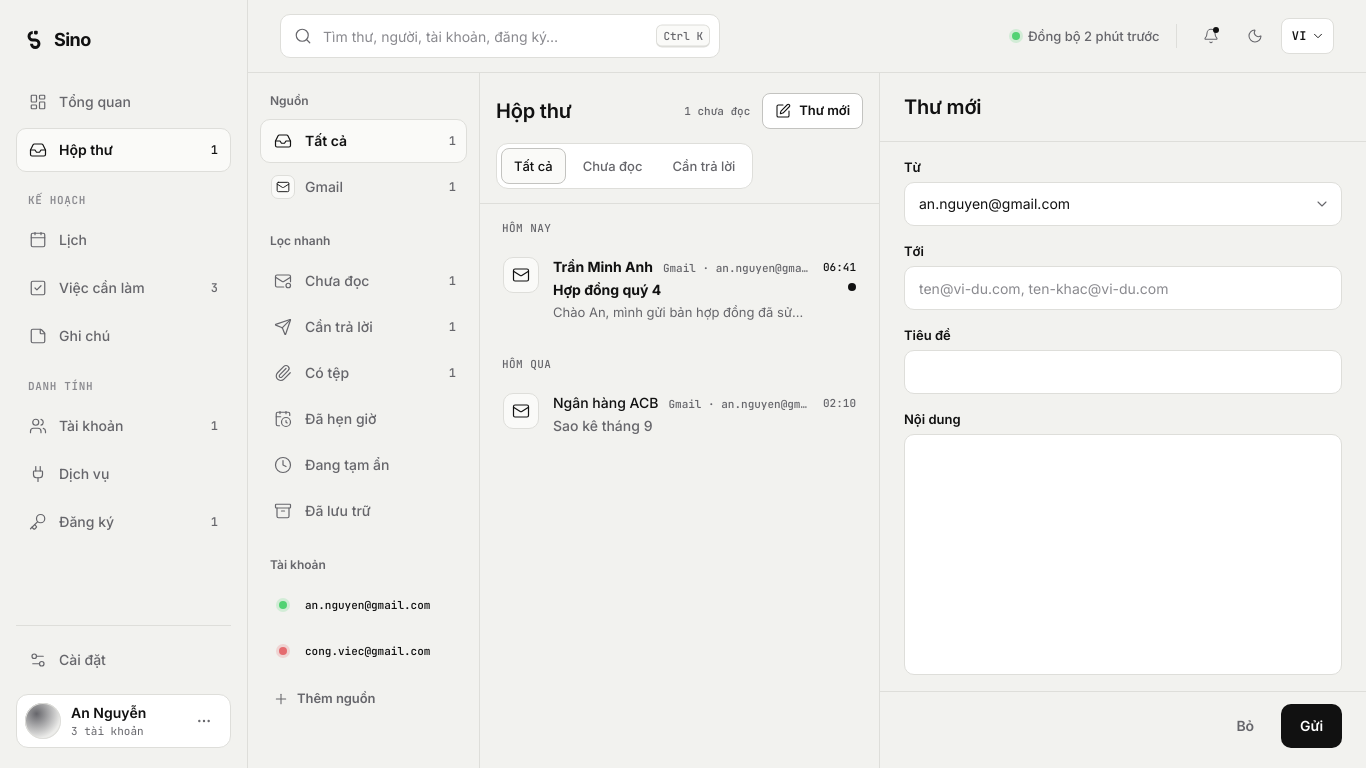
Test: sending a new mail on the API (FE-84, f10-new-mail) › says when the account can no longer send, and reads the accounts again (409 SEND_NOT_ALLOWED)
In the field labelled "Tới": (1123, 288) [904,266,1342,310], type "minhanh@acme.vn"
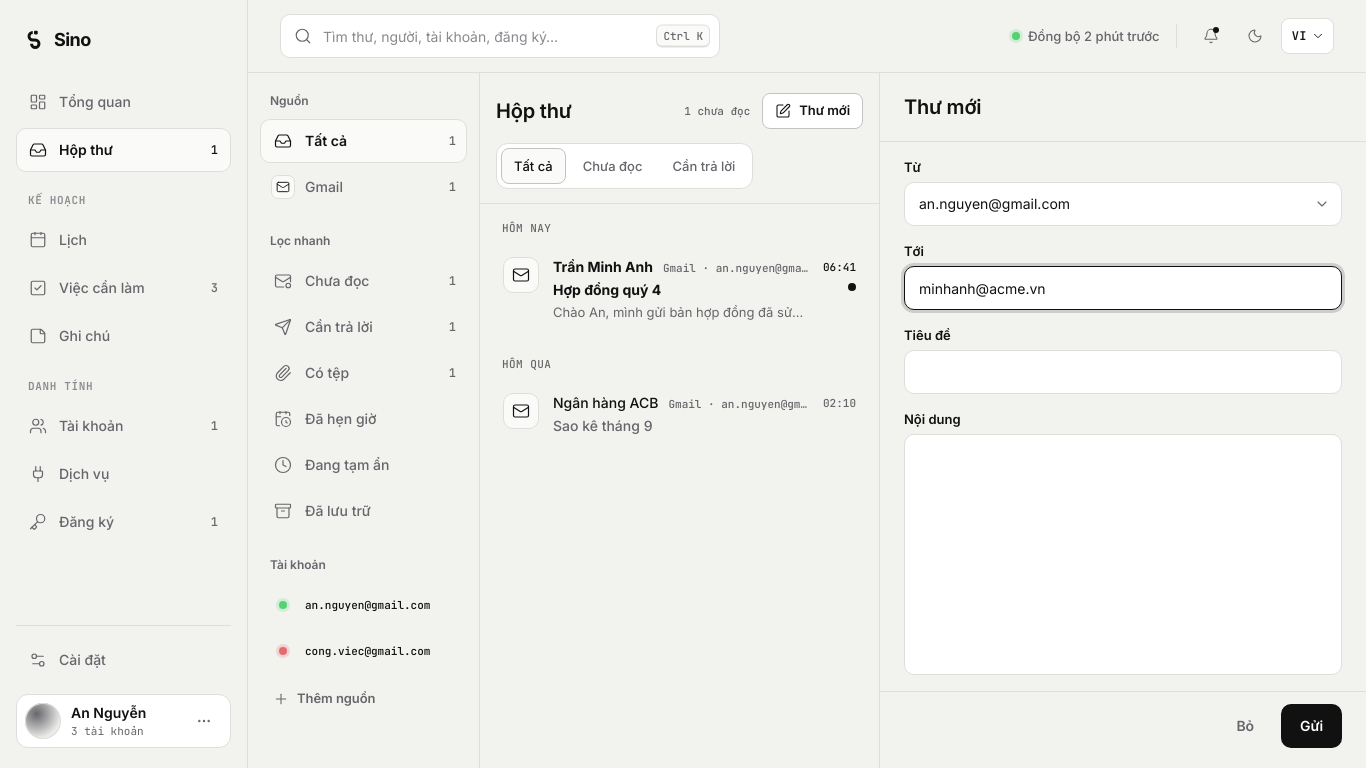
In the field labelled "Tiêu đề": (1123, 372) [904,350,1342,394], type "Báo giá"
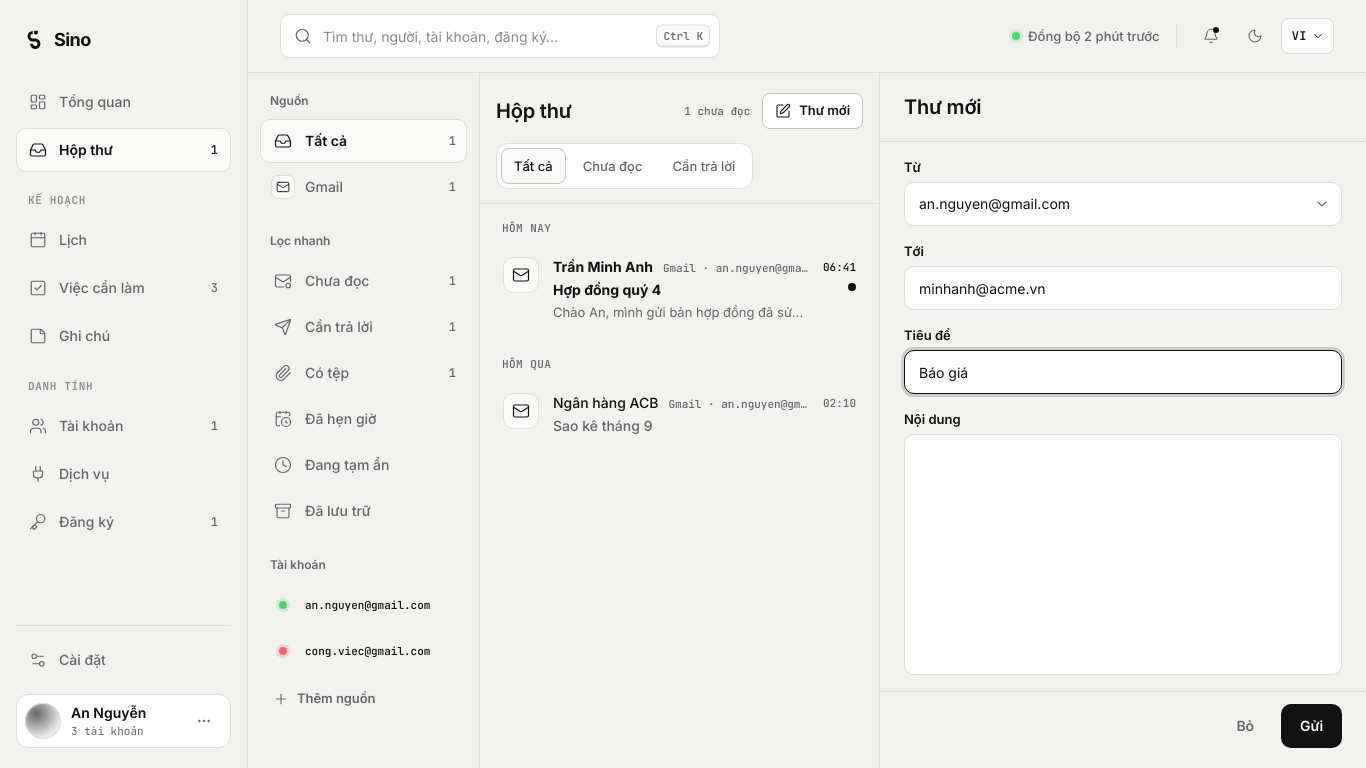
In the text box labelled "Nội dung": (1123, 554) [904,434,1342,675], type "Chào chị"
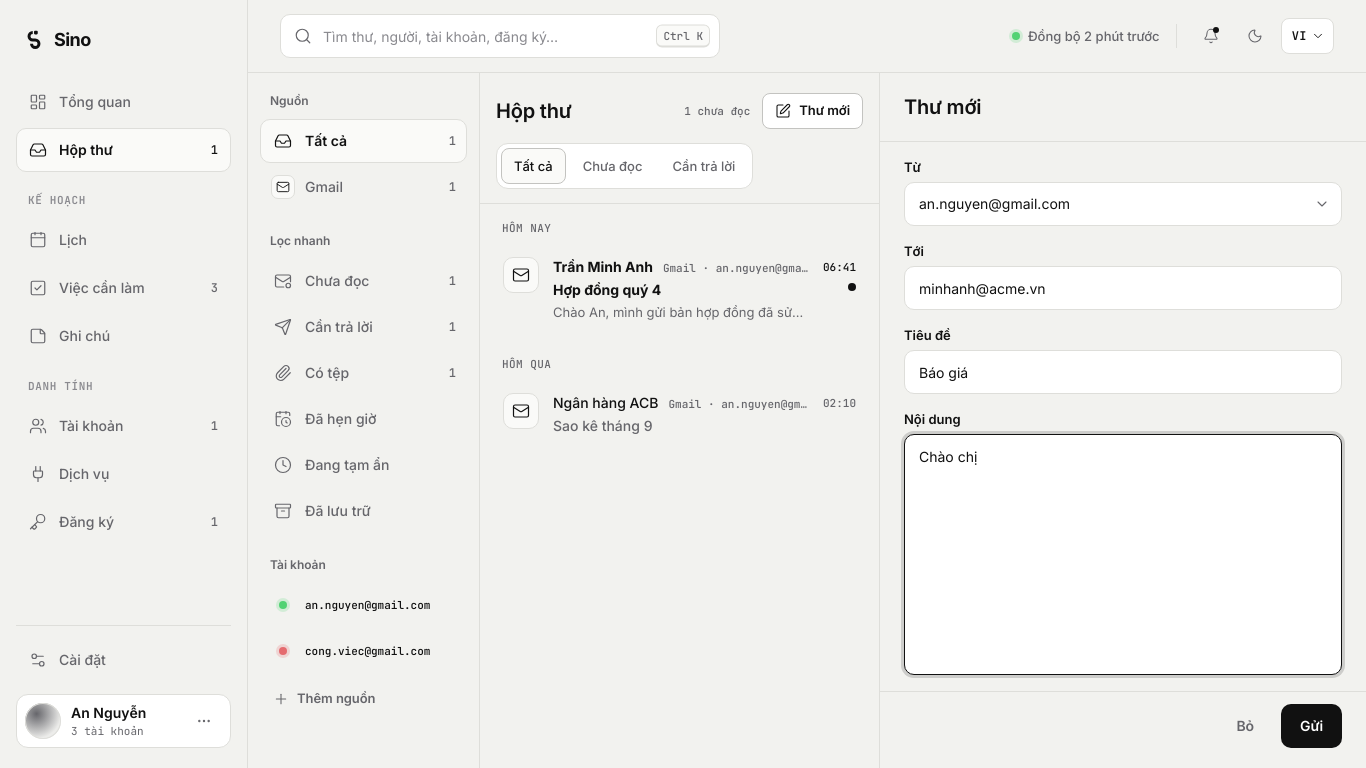
Click the button "Gửi": (1312, 726) [1281,704,1342,748]
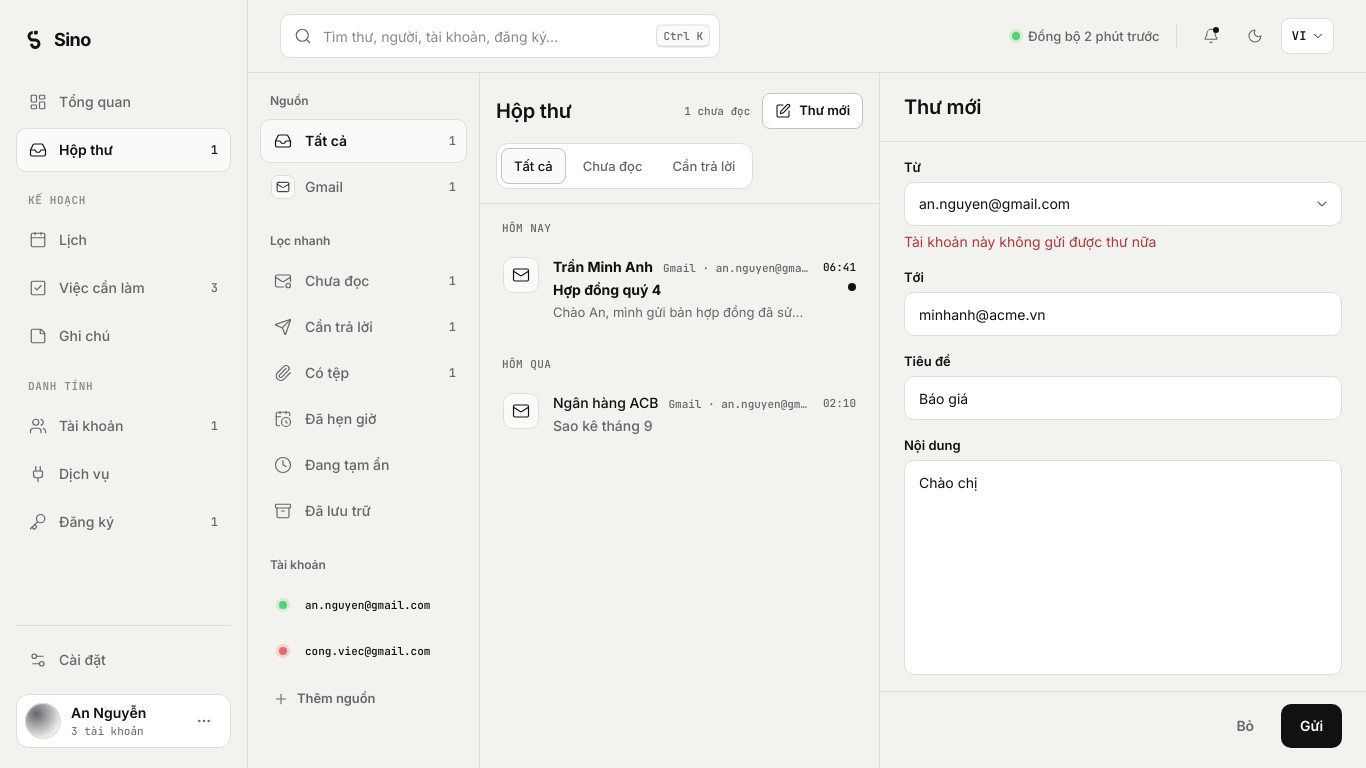
Now the text "Tài khoản này không gửi được thư nữa" is shown, box [904,233,1156,250]
